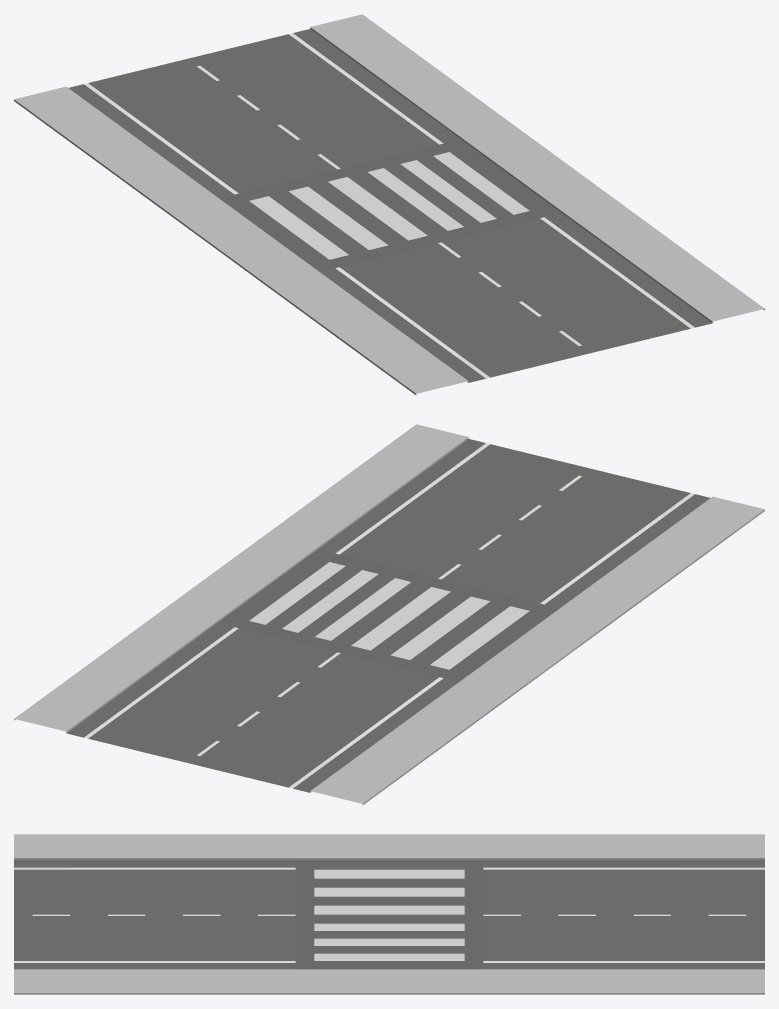
File: Straight_Long.fbx
The picture shows the model from 3 angles, top to bottom: view 1: azimuth 30°, elevation 25°; view 2: azimuth 150°, elevation 25°; view 3: azimuth 270°, elevation 25°; orthographic projection. The views are drawn at different scales.
Parts seen in each view (by area): view 1: Plane.001; view 2: Plane.001; view 3: Plane.001.
Part boxes in pixels (box(x1,y1,x2,y2)): Plane.001: box(14, 14, 764, 395); Plane.001: box(14, 424, 764, 805); Plane.001: box(14, 834, 764, 994).
Bounding box in the file's own units: 30 × 0.15 × 60.
